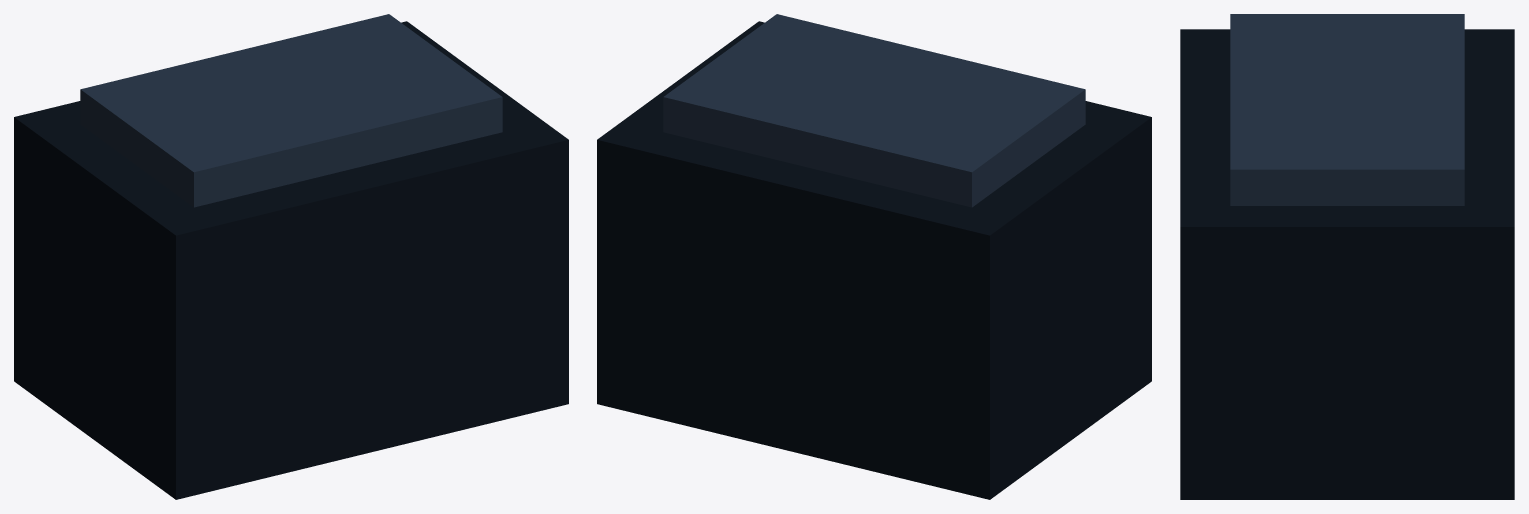
The picture shows the model from 3 angles, left to right: view 1: azimuth 30°, elevation 25°; view 2: azimuth 150°, elevation 25°; view 3: azimuth 270°, elevation 25°; orthographic projection. The views are drawn at different scales.
Visible parts, largest first — view 1: 076_L103_J3; view 2: 076_L103_J3; view 3: 076_L103_J3.
Part boxes in pixels (x1,y1,x2,y2): 076_L103_J3: [14, 14, 568, 499]; 076_L103_J3: [597, 14, 1151, 499]; 076_L103_J3: [1180, 14, 1514, 499].
Bounding box in the file's own units: 1.4 × 1.02 × 1.
